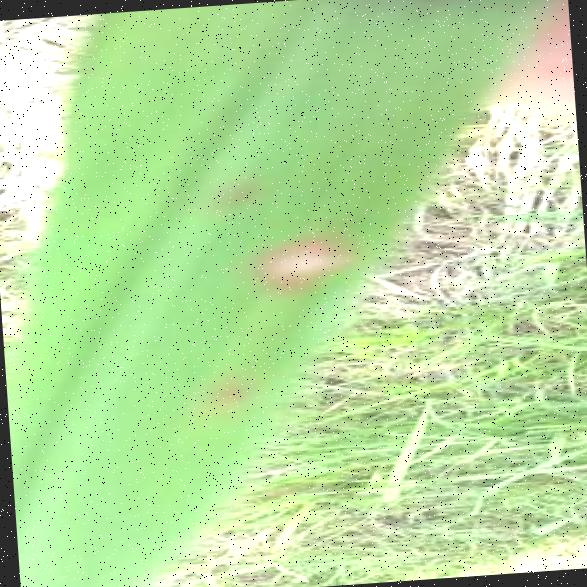Leaf_smut: (228, 198, 375, 304)
